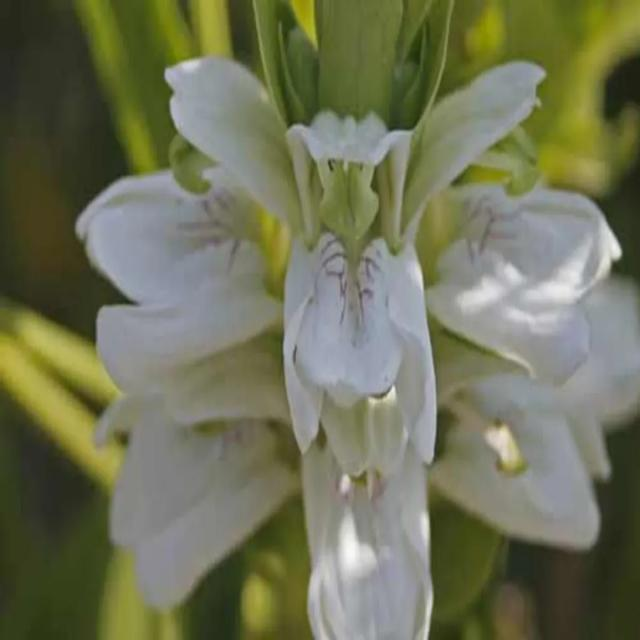Malabar Nut: (99, 68, 576, 588)
